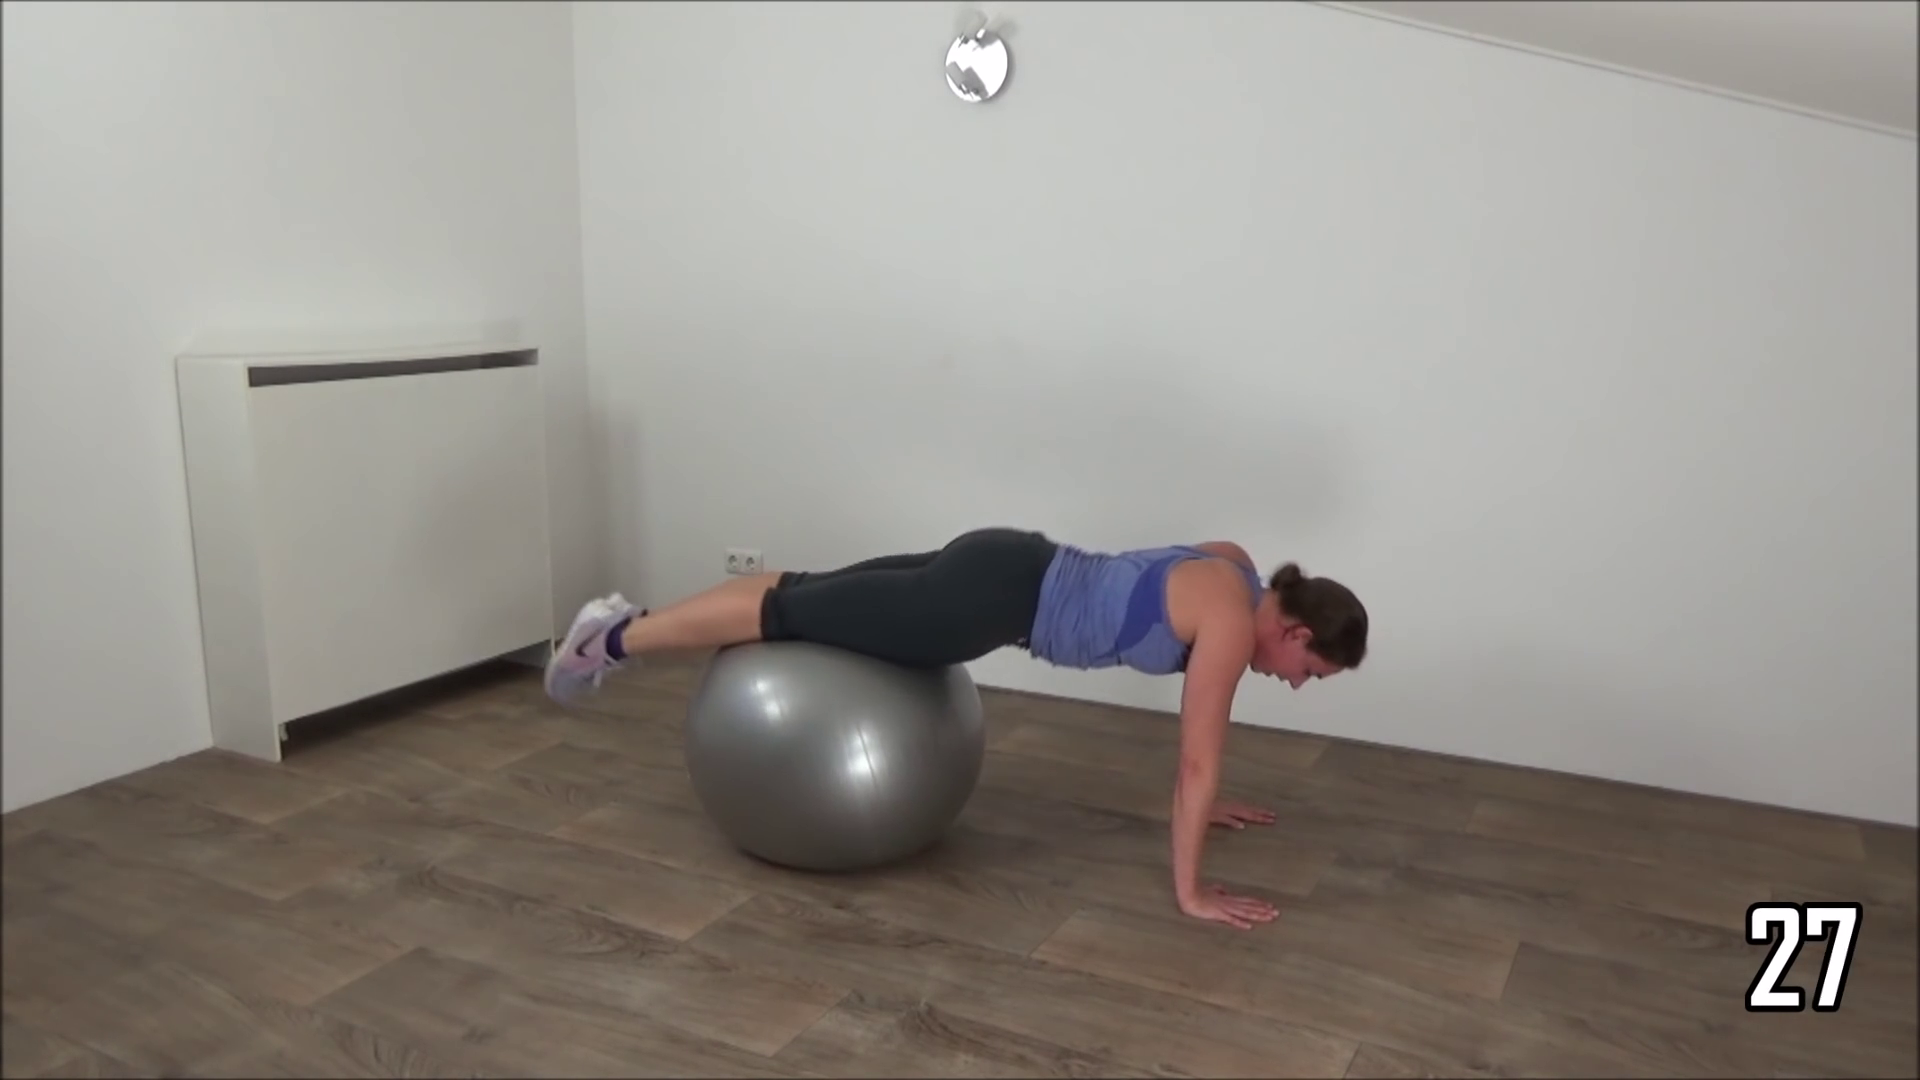yogaball: (673, 626, 1000, 881)
